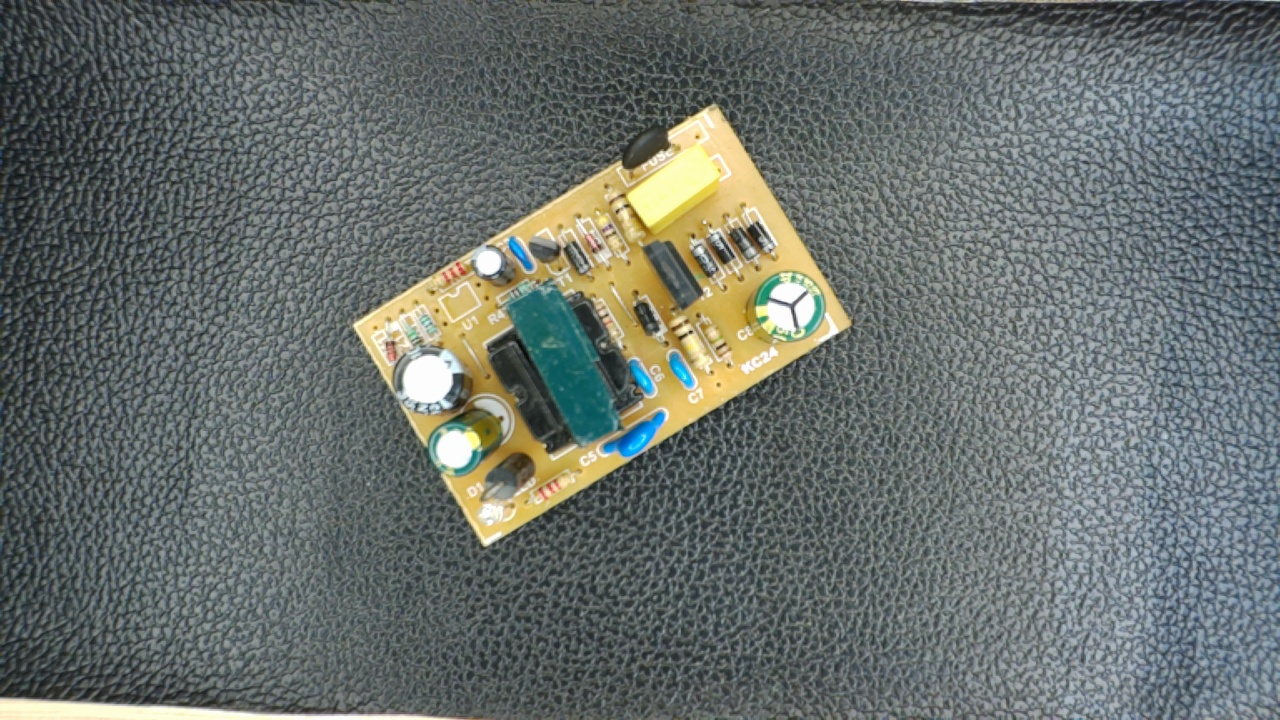fuse: (612, 128, 692, 182)
hv_capacitor: (746, 266, 825, 347)
mov: (593, 410, 672, 456)
